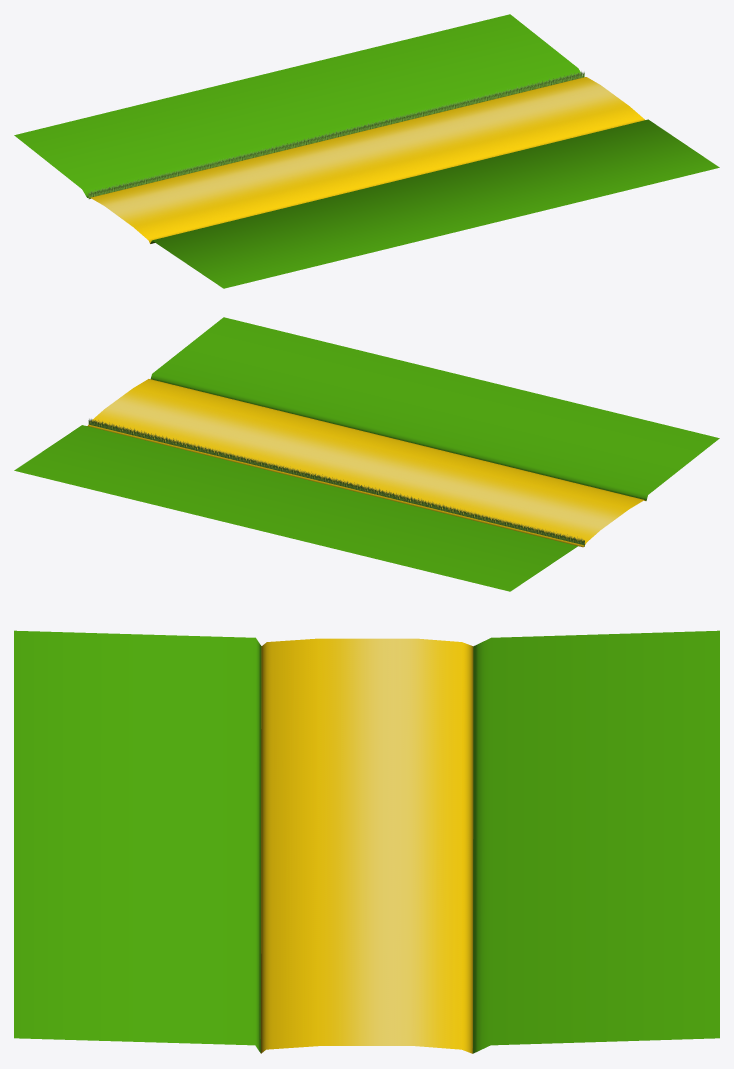
The model's file is levelgobz2.glb.
3 renders of one model, top to bottom at view 1: azimuth 30°, elevation 25°; view 2: azimuth 150°, elevation 25°; view 3: azimuth 270°, elevation 25°, orthographic. The views are drawn at different scales.
Visible parts, largest first — view 1: Plane, Plane.003, Plane.001; view 2: Plane, Plane.003, Plane.001; view 3: Plane, Plane.003.
Boxes of the visible parts, <box> form: Plane: <box>14,14,719,288</box>; Plane.003: <box>90,77,644,243</box>; Plane.001: <box>88,71,584,199</box>; Plane: <box>14,317,719,591</box>; Plane.003: <box>87,379,645,547</box>; Plane.001: <box>88,418,584,546</box>; Plane: <box>14,630,719,1053</box>; Plane.003: <box>261,638,473,1053</box>.
Bounding box in the file's own units: 20 × 0.6043 × 14.64.
3 materials, 3 textured.
